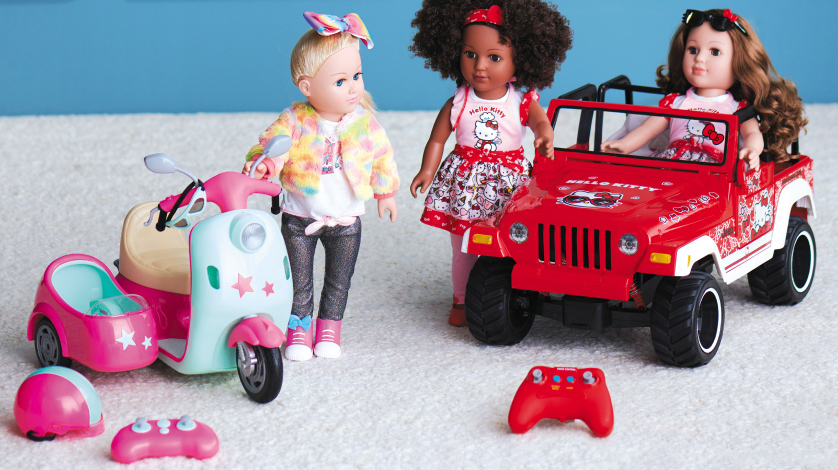toy: (22, 15, 397, 468)
